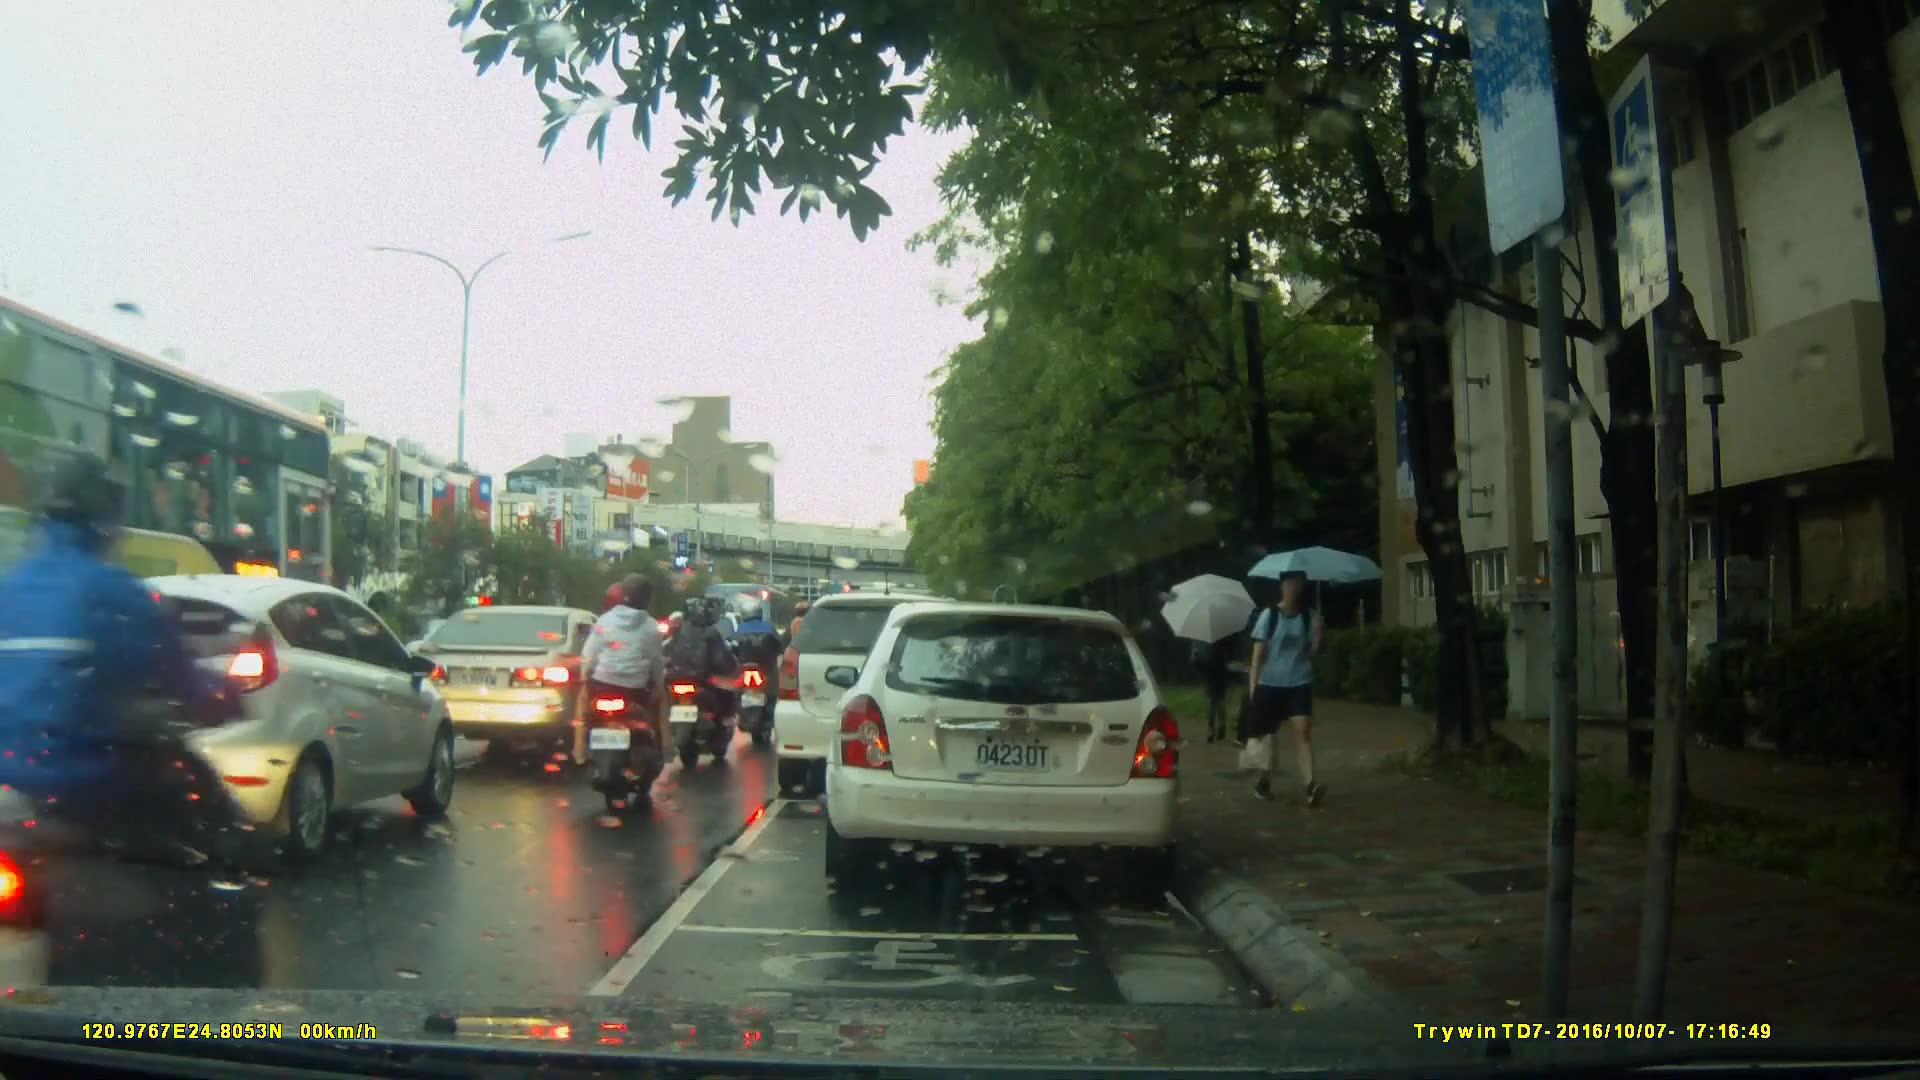pedestrian: (1232, 554, 1331, 815), (1201, 599, 1251, 740)
rider: (1, 453, 275, 1049), (573, 571, 677, 826), (668, 593, 730, 776), (727, 595, 786, 745), (787, 599, 824, 728)
vehicle: (1, 293, 342, 765), (23, 571, 458, 872), (835, 594, 1194, 898), (776, 590, 1026, 784), (385, 603, 643, 766), (603, 619, 728, 716), (706, 582, 808, 672)
